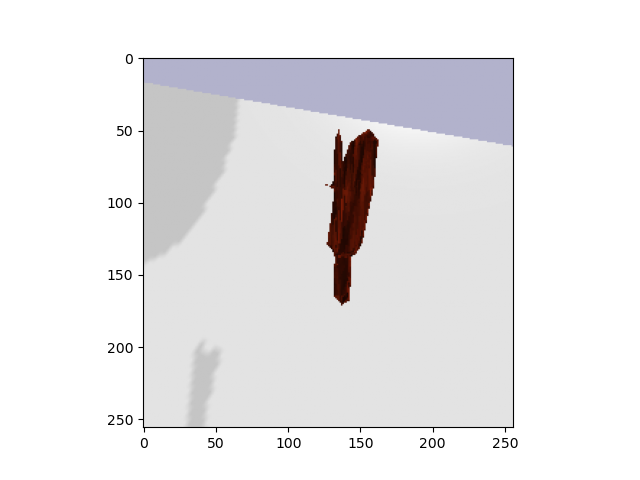v249b387_107: (321, 124, 391, 320)
